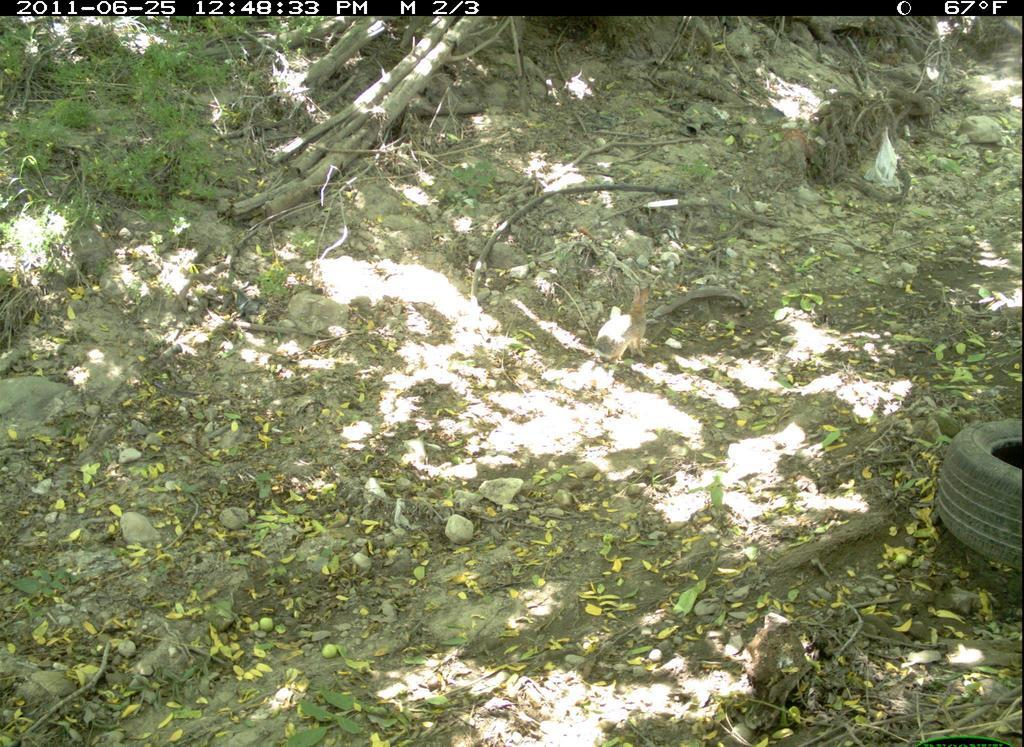rabbit: (578, 267, 658, 382)
